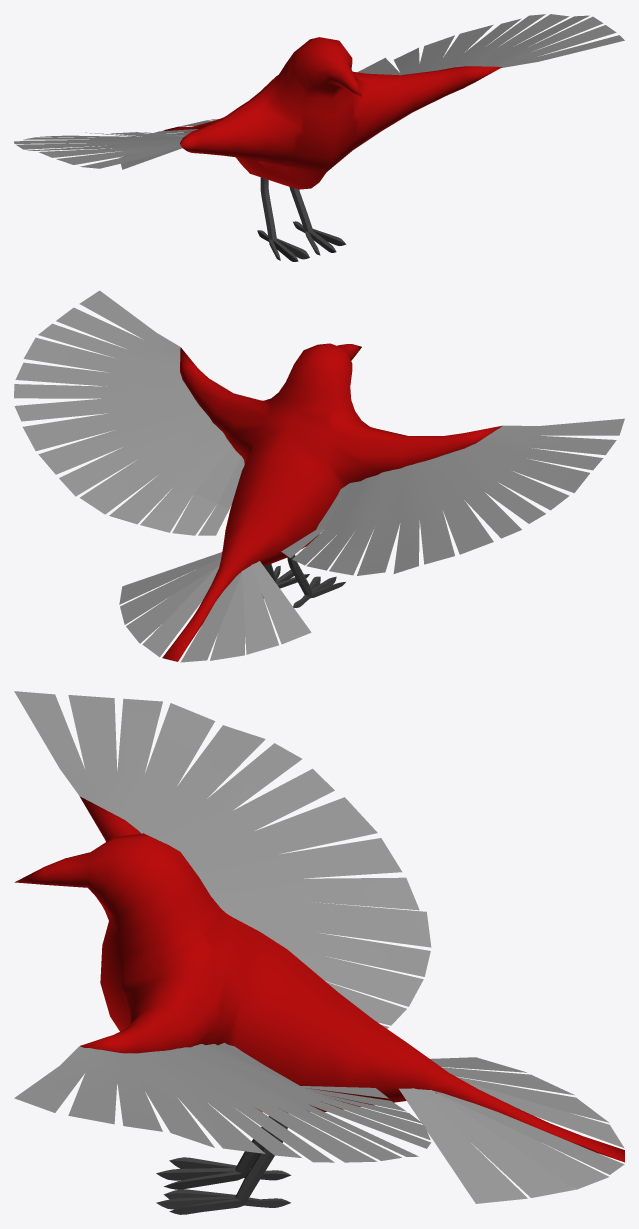
The model's file is MOD_PlaceholderFlyEnemy.fbx.
The picture shows the model from 3 angles, top to bottom: view 1: azimuth 30°, elevation 25°; view 2: azimuth 150°, elevation 25°; view 3: azimuth 270°, elevation 25°; orthographic projection. The views are drawn at different scales.
Visible parts, largest first — view 1: Crow; view 2: Crow; view 3: Crow.
Boxes of the visible parts, x1,y1,x2,y2 form: Crow: (14, 14, 624, 261); Crow: (14, 290, 624, 662); Crow: (14, 691, 624, 1214).
Bounding box in the file's own units: 556 × 217 × 334.
